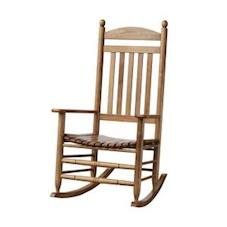chair: (36, 5, 175, 211)
